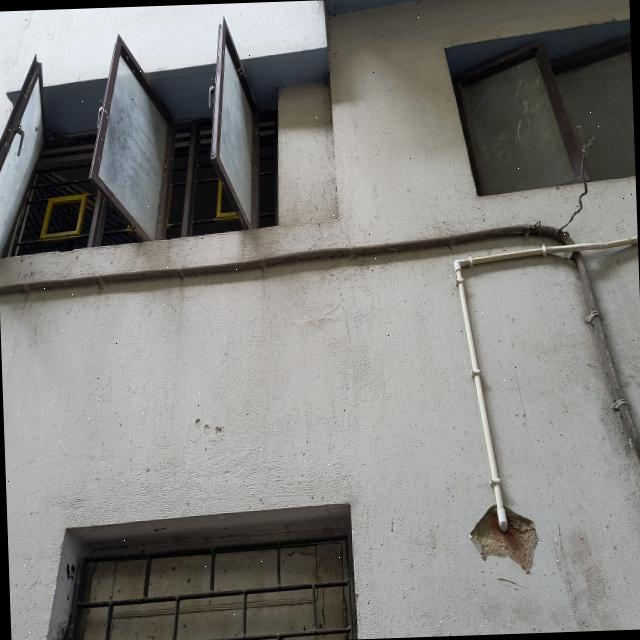Scaling: (470, 504, 538, 572)
